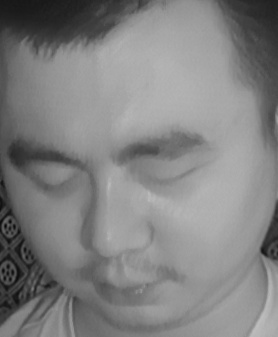blink: (29, 164, 82, 201), (146, 162, 202, 197)
mouth: (84, 263, 168, 311)
